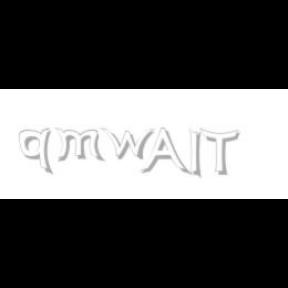A: (140, 128, 188, 176)
T: (199, 128, 239, 176)
l: (189, 128, 205, 180)
m: (54, 128, 106, 162)
q: (19, 128, 55, 176)
w: (101, 128, 160, 160)
